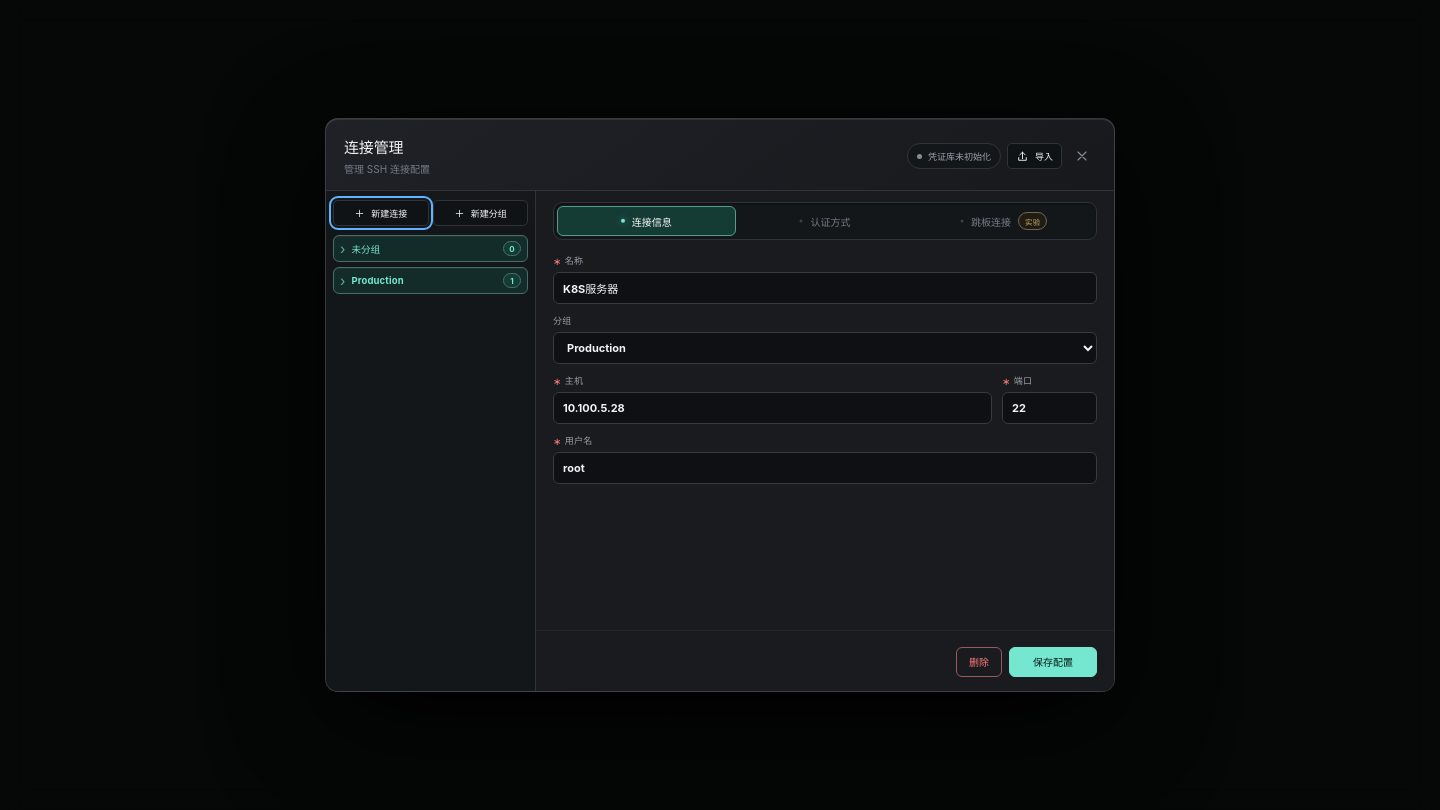
Test: connection list overflow after copying › removes the copied row's selection surface when its group is collapsed (group-1)
Click the button "› Production 1".
click(430, 280)  # box [334,268,527,293]
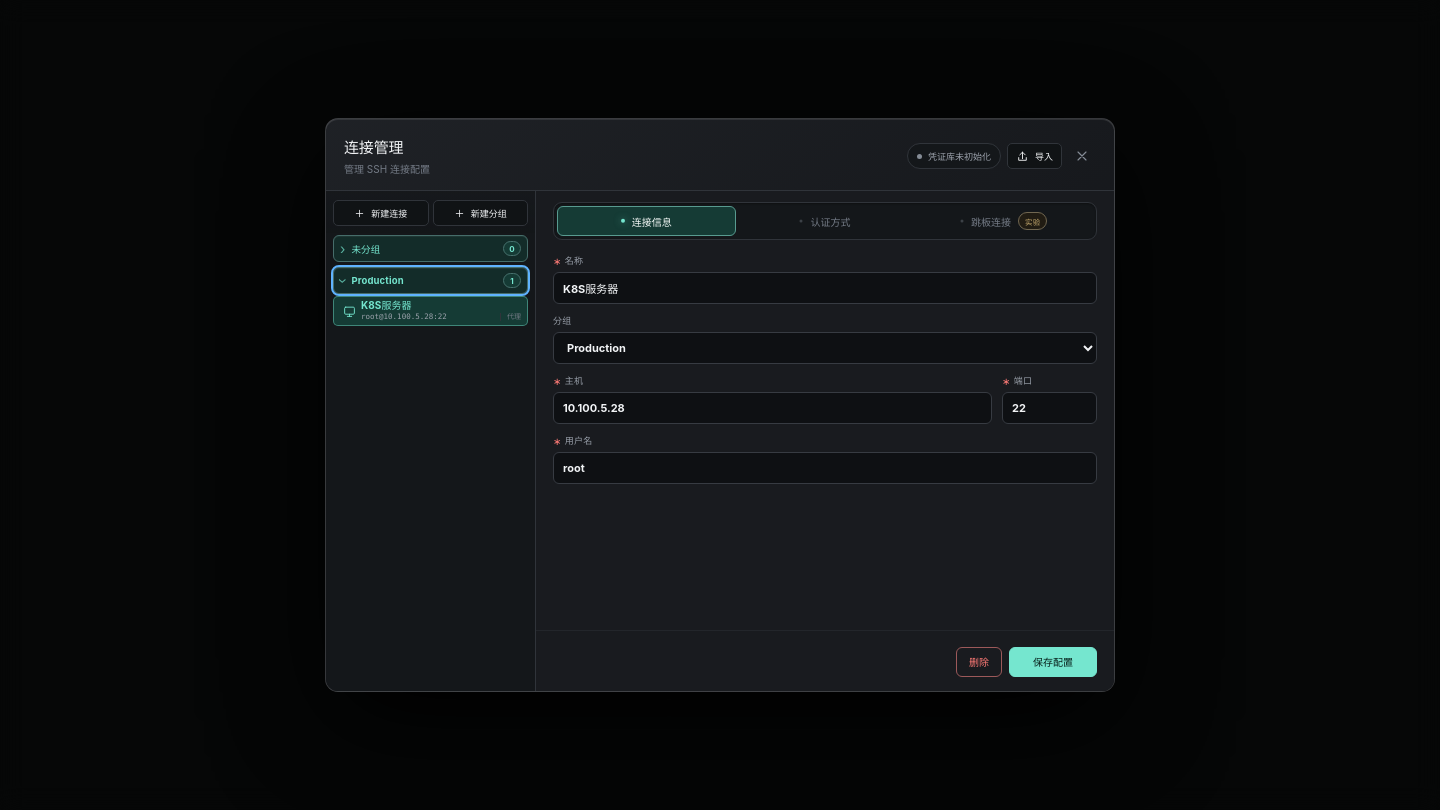
Right-click the button named "K8S服务器root@".
right_click(430, 311)  # box [333,296,528,326]
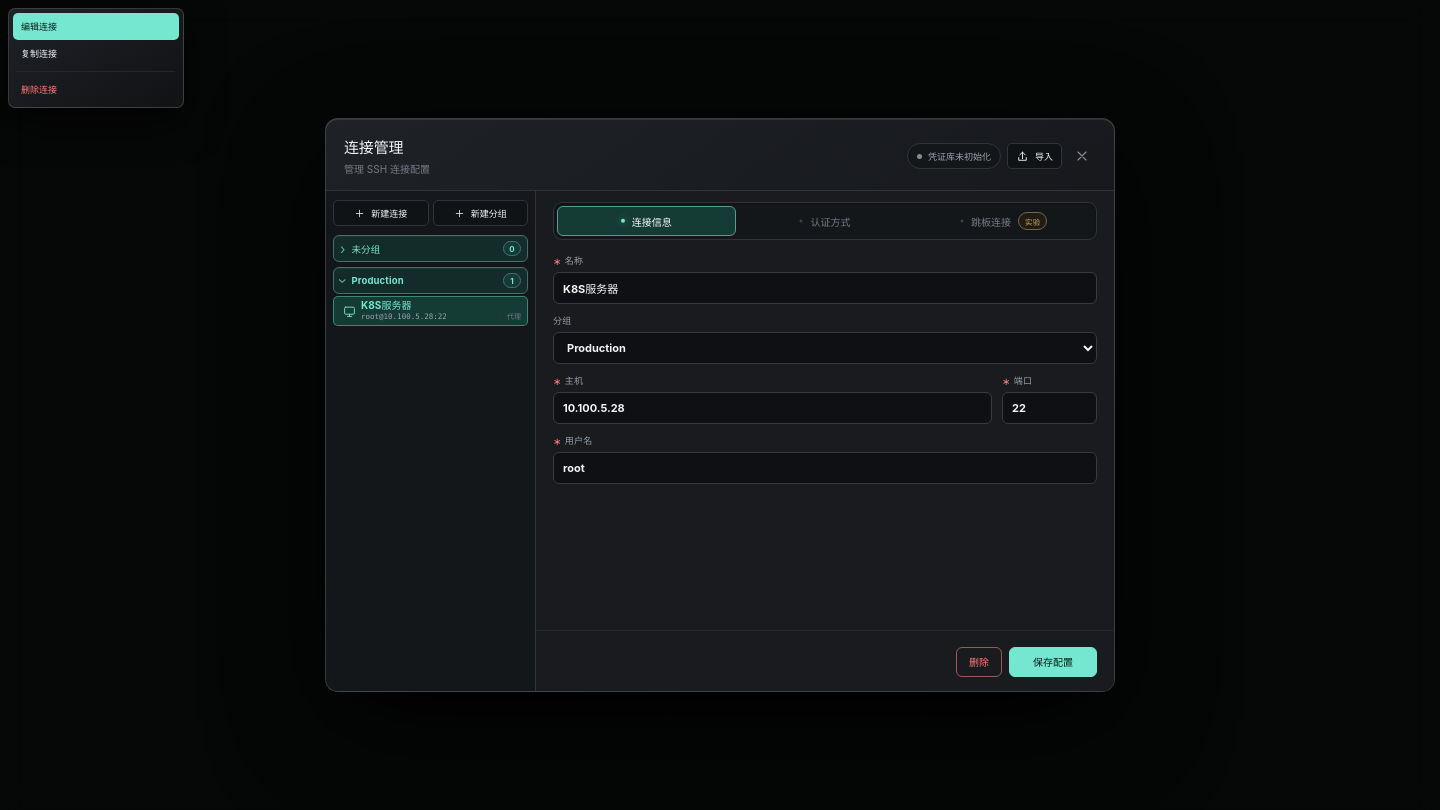
Click the menu item "复制连接".
click(96, 54)  # box [13,40,179,67]
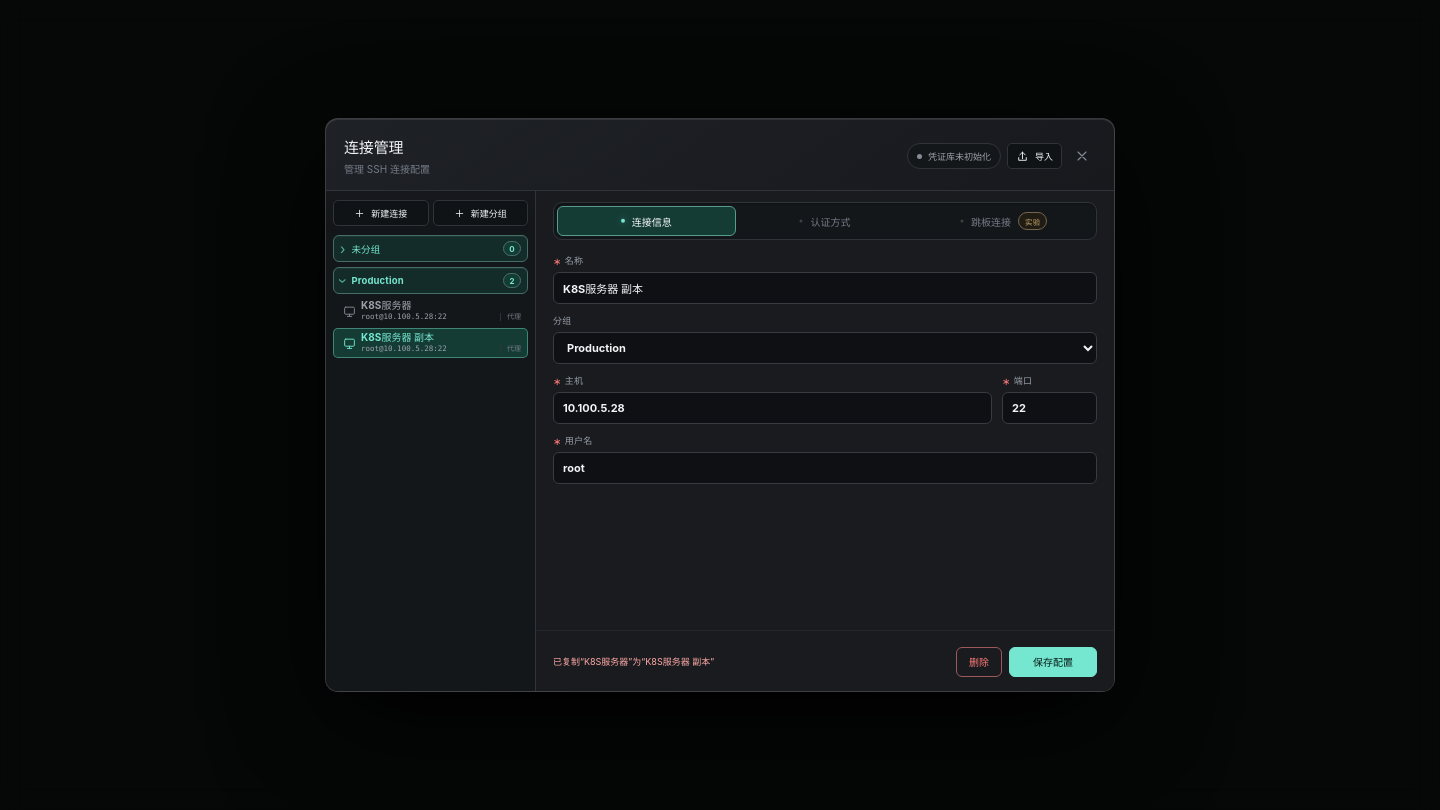
Now the element with class "connection-selection-indicator" has attribute data-target-id="profile-copy", box [333,328,528,358]
Click the button "› Production 2".
click(430, 280)  # box [334,268,527,293]
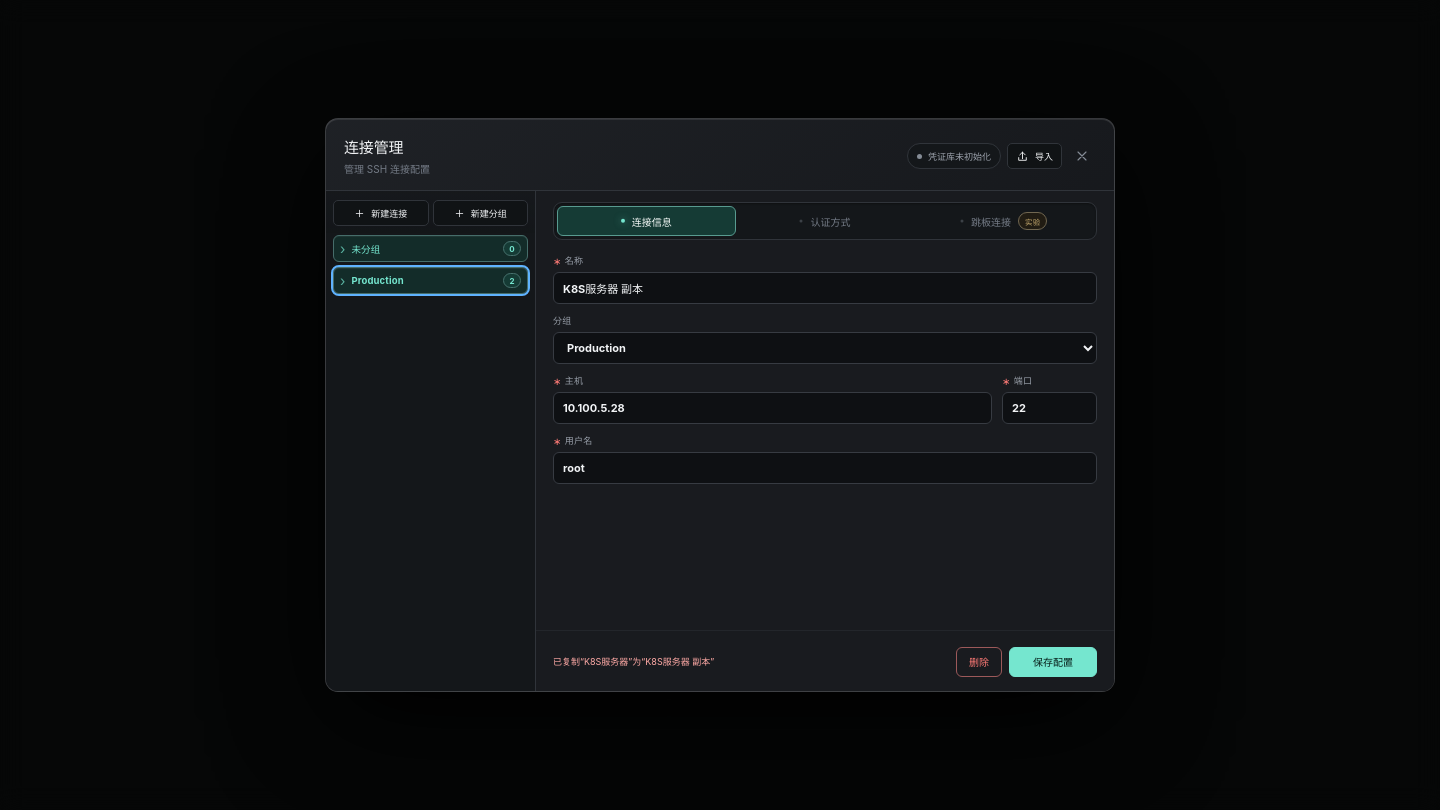
Now the field labelled "名称" holds "K8S服务器 副本", box [553,272,1097,304]
Now the button "› Production 2" is collapsed
Now the element with class "connection-selection-indicator" is gone
Click the button "› Production 2".
click(430, 280)  # box [334,268,527,293]
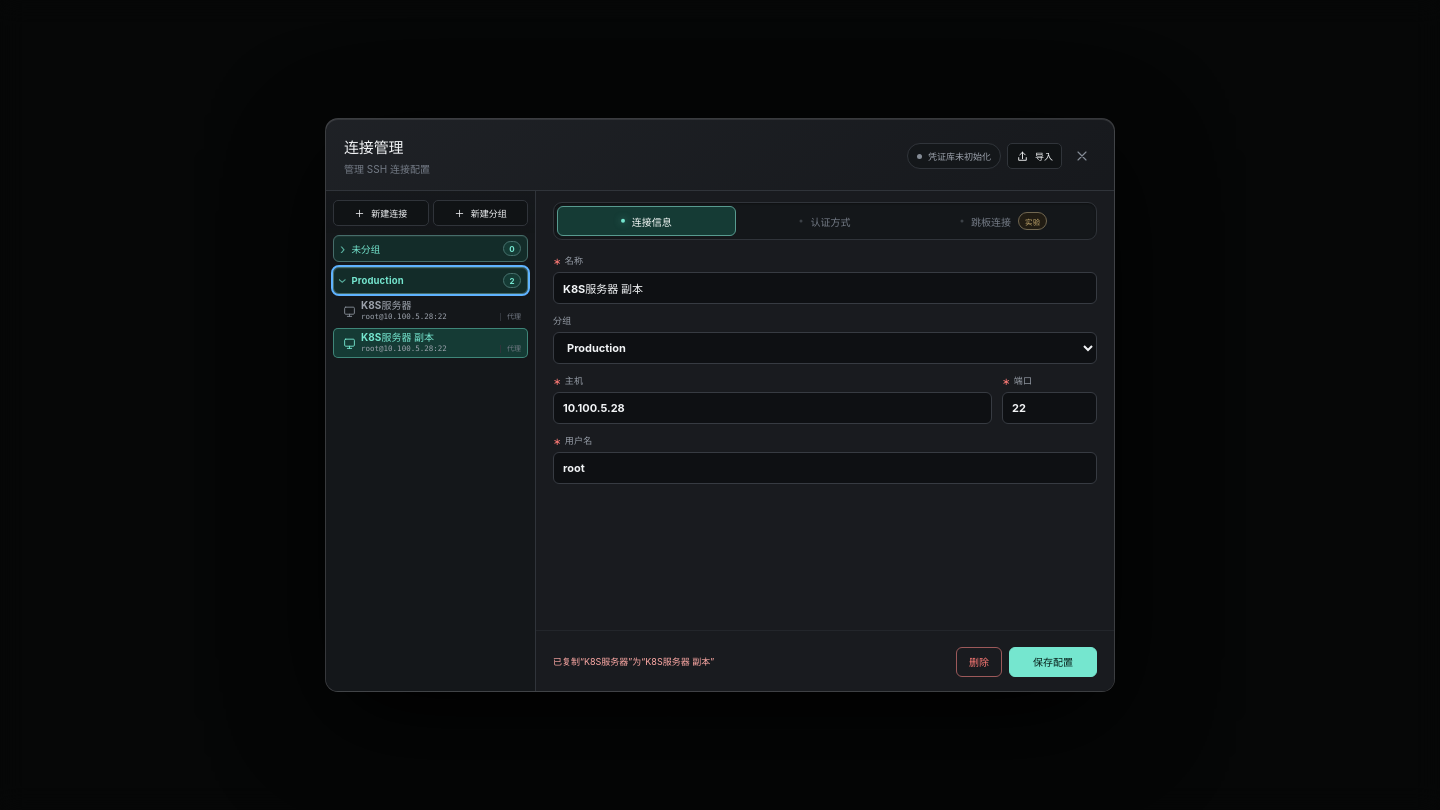
Now the element with class "connection-selection-indicator" has attribute data-target-id="profile-copy", box [333,328,528,358]
Click the button "› Production 2".
click(430, 280)  # box [334,268,527,293]
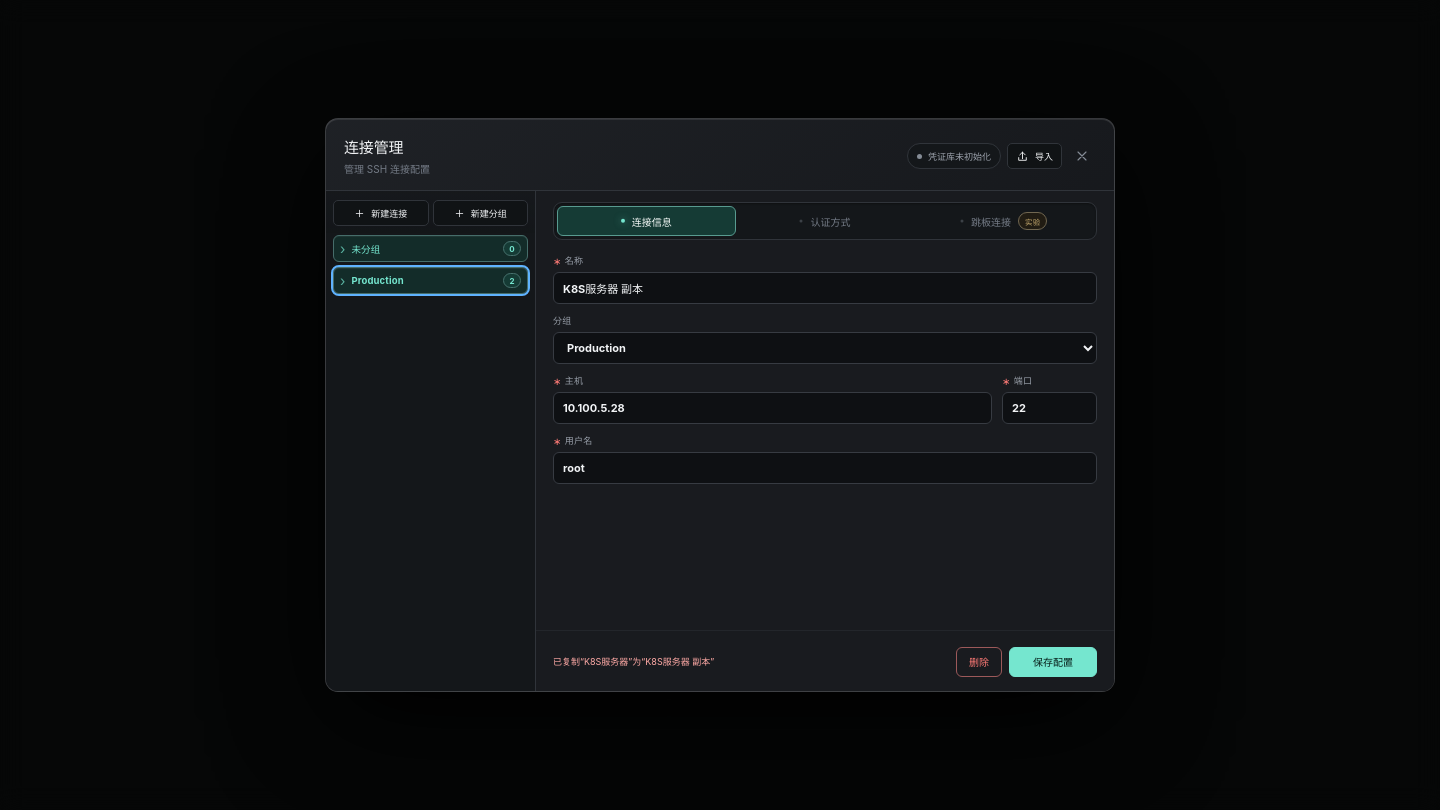
Now the element with class "connection-selection-indicator" is gone
